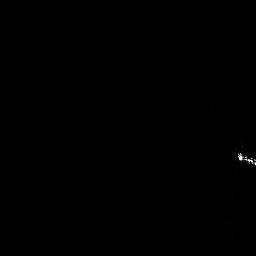ship: (233, 150, 256, 169)
